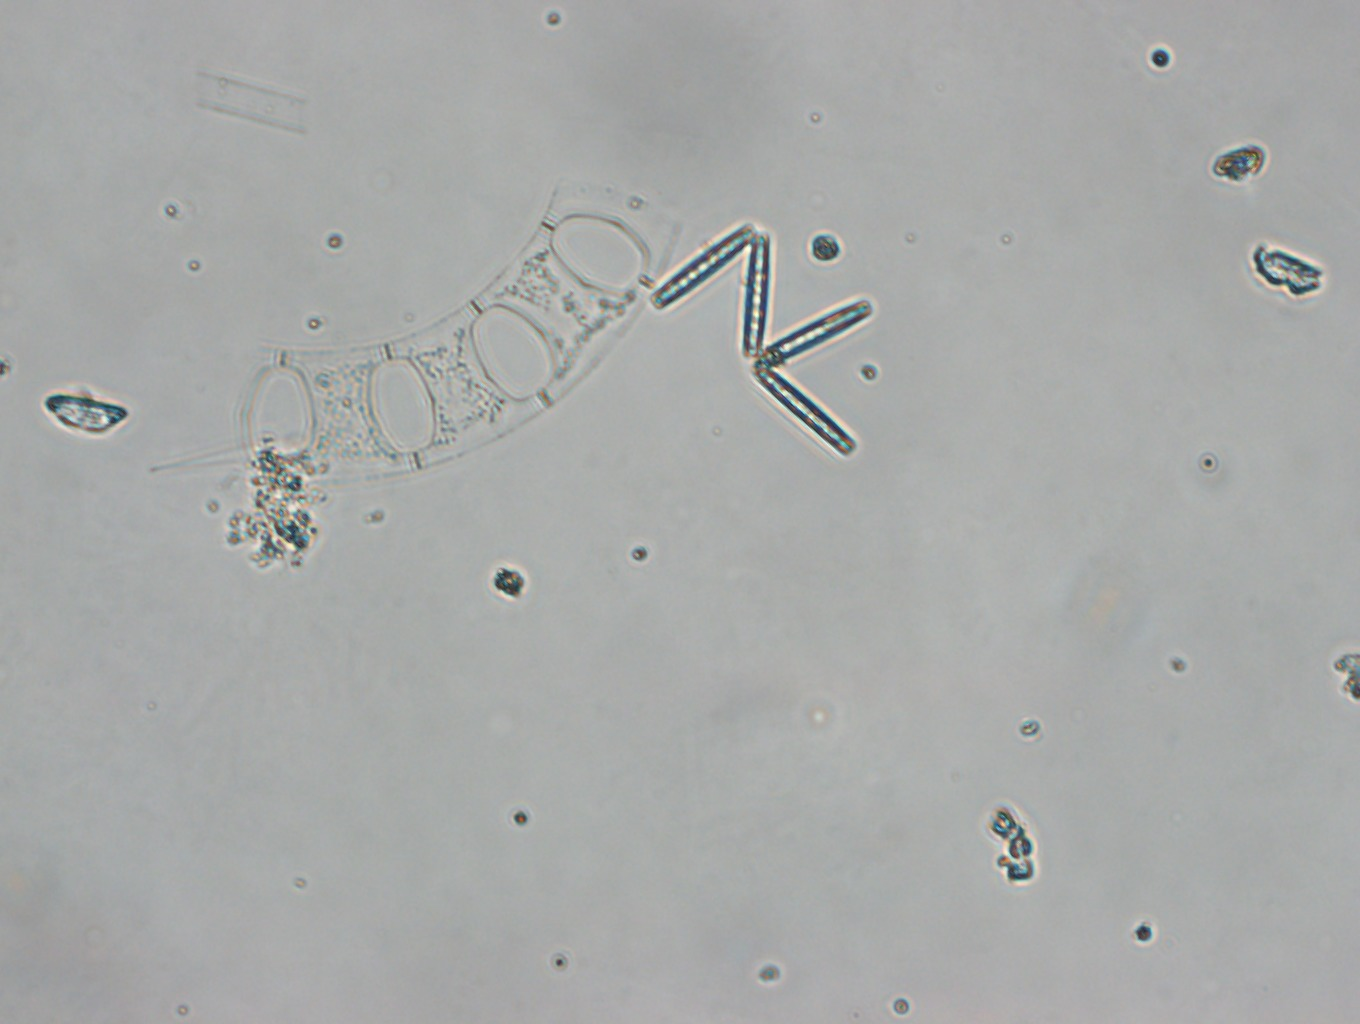eucampia: (238, 180, 678, 482)
thalassionema nitzschioides: (652, 222, 881, 458)
